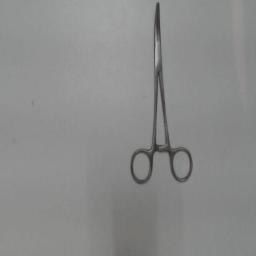Crile Artery Forceps: (127, 2, 197, 186)
